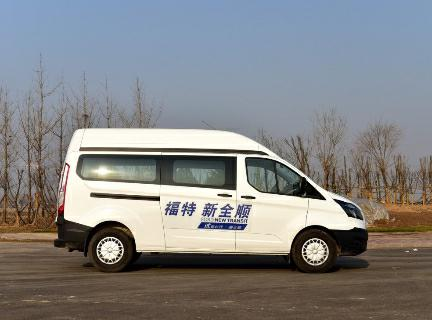福特-全顺: (56, 126, 371, 271)
